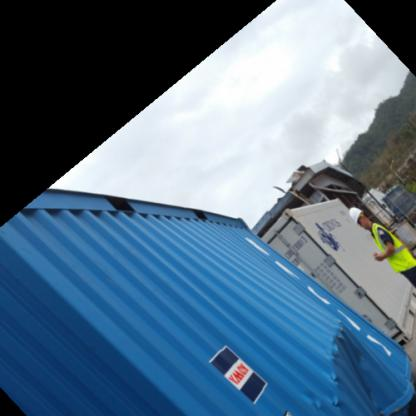Damage: (309, 296, 403, 415)
